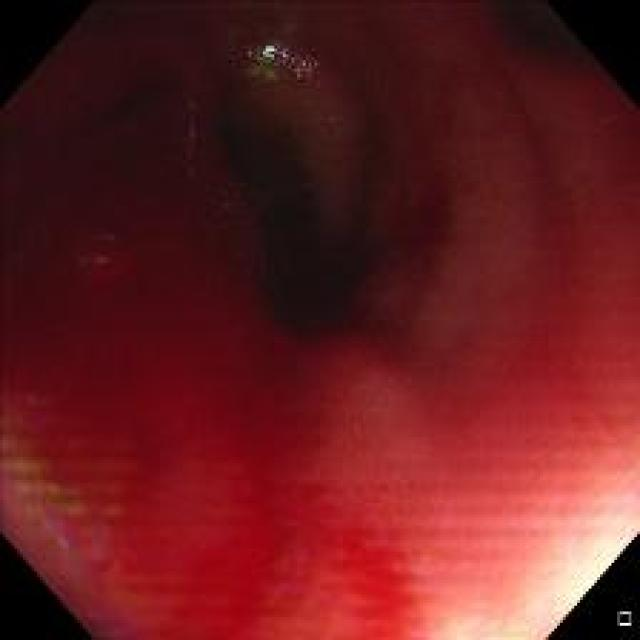color misalignment: (11, 451, 115, 615), (246, 40, 320, 74), (89, 222, 126, 276), (324, 100, 350, 126)
contrast: (106, 81, 489, 406)
saturation: (474, 549, 629, 632)
